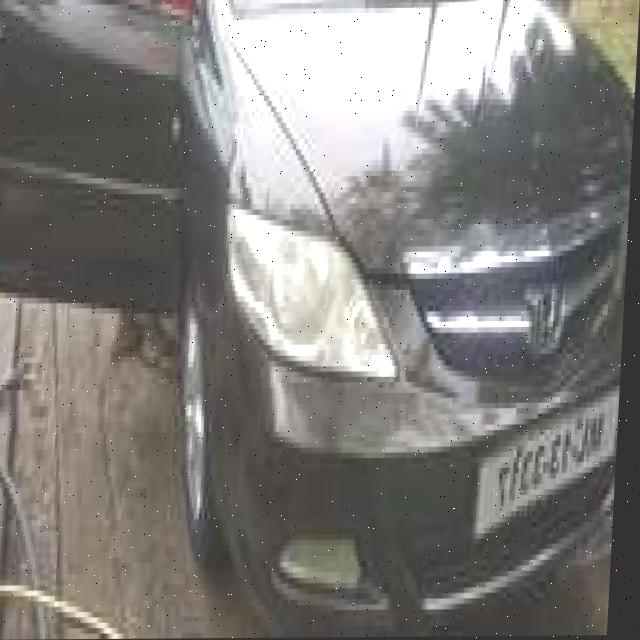plate: (481, 381, 624, 534)
